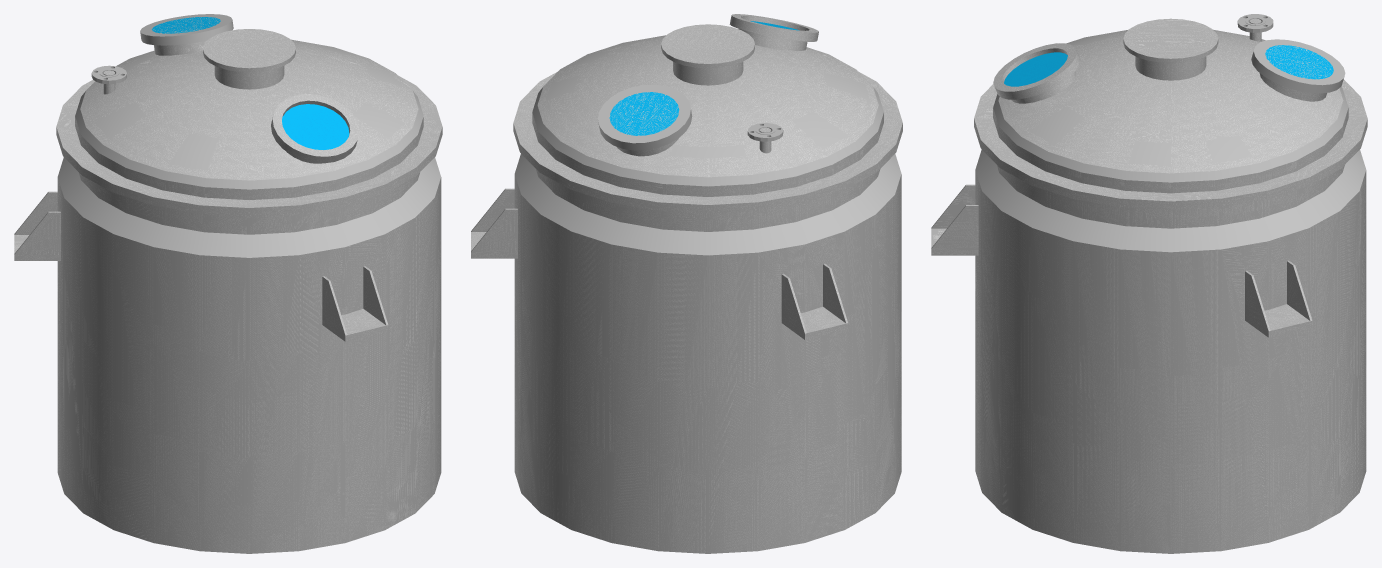
Rendered from TankA.dae.
3 views of the same model, side by side, from view 1: azimuth 30°, elevation 25°; view 2: azimuth 150°, elevation 25°; view 3: azimuth 270°, elevation 25° (orthographic).
Visible parts, largest first — view 1: SketchUp (×16); view 2: SketchUp (×15); view 3: SketchUp (×16).
Boxes of the visible parts, x1=… form: SketchUp (×16): x1=14, y1=14, x2=442, y2=553; SketchUp (×15): x1=471, y1=14, x2=902, y2=553; SketchUp (×16): x1=931, y1=18, x2=1367, y2=553.
Size of the model in its own units: 58.51 by 58 by 63.45.
